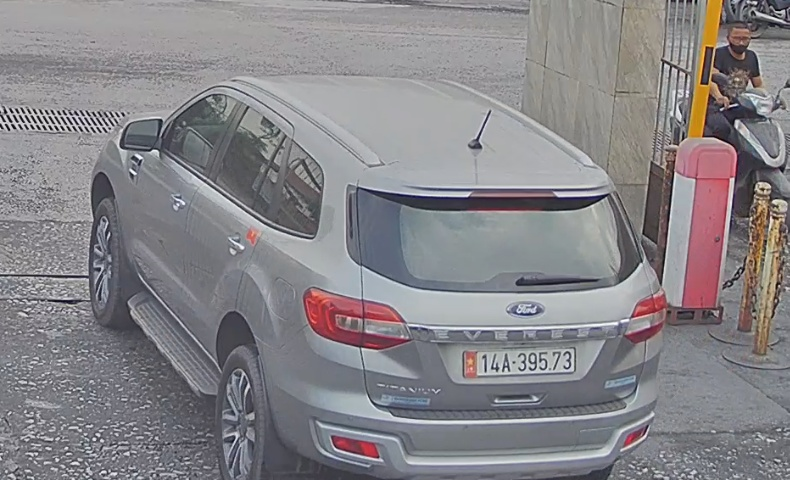vehicle plate: (457, 343, 583, 382)
